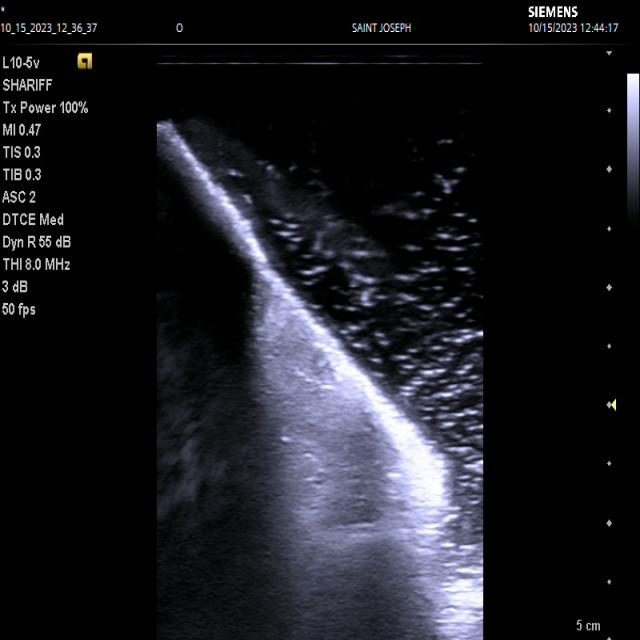tissue: (156, 122, 457, 640)
